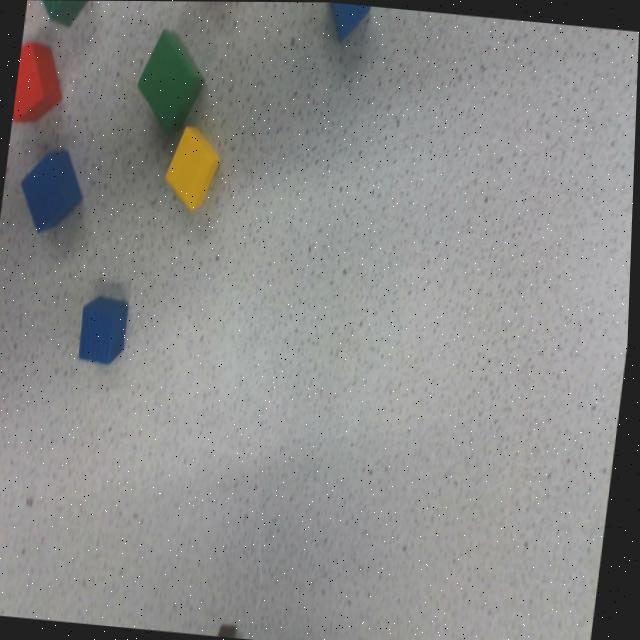blue_cube: (14, 146, 92, 232), (77, 293, 133, 365), (327, 2, 370, 42)
green_cube: (125, 27, 218, 136), (43, 0, 86, 25)
red_cube: (9, 40, 63, 122)
yellow_cube: (158, 123, 228, 212)
